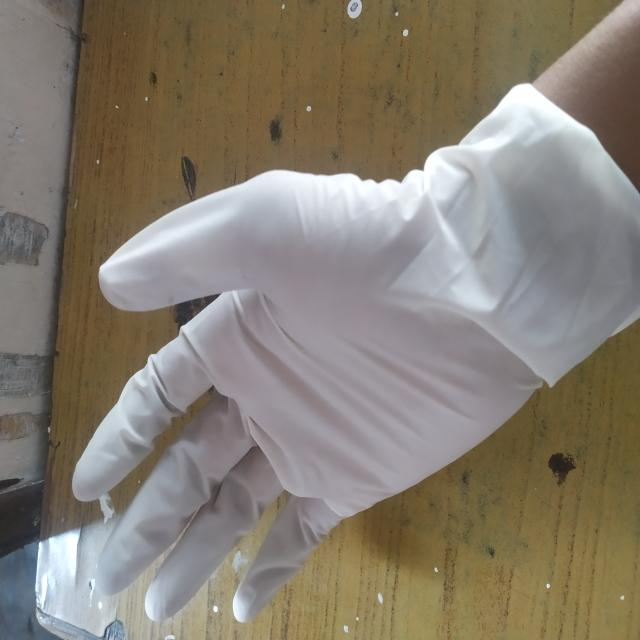glove: (61, 80, 638, 626)
